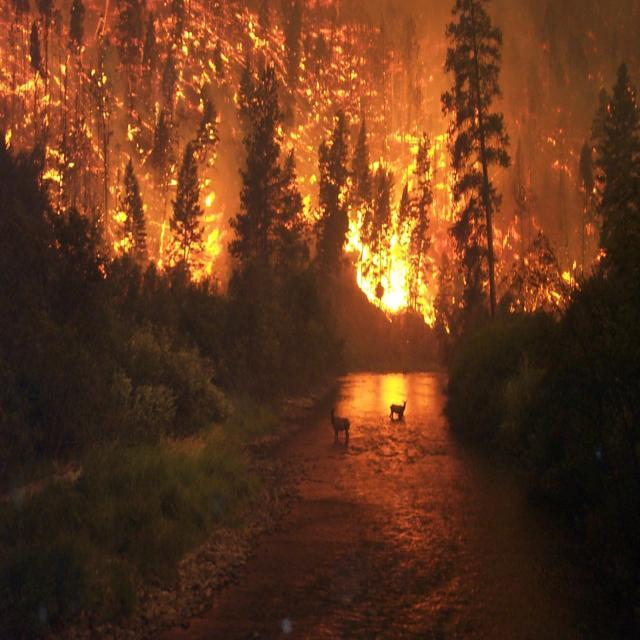Fire: (452, 213, 586, 314), (0, 13, 75, 182), (80, 0, 164, 141), (167, 0, 261, 122), (284, 28, 368, 162), (354, 212, 437, 328), (391, 114, 452, 210), (100, 170, 151, 258), (185, 203, 234, 291)
Smoke: (0, 0, 640, 270)
